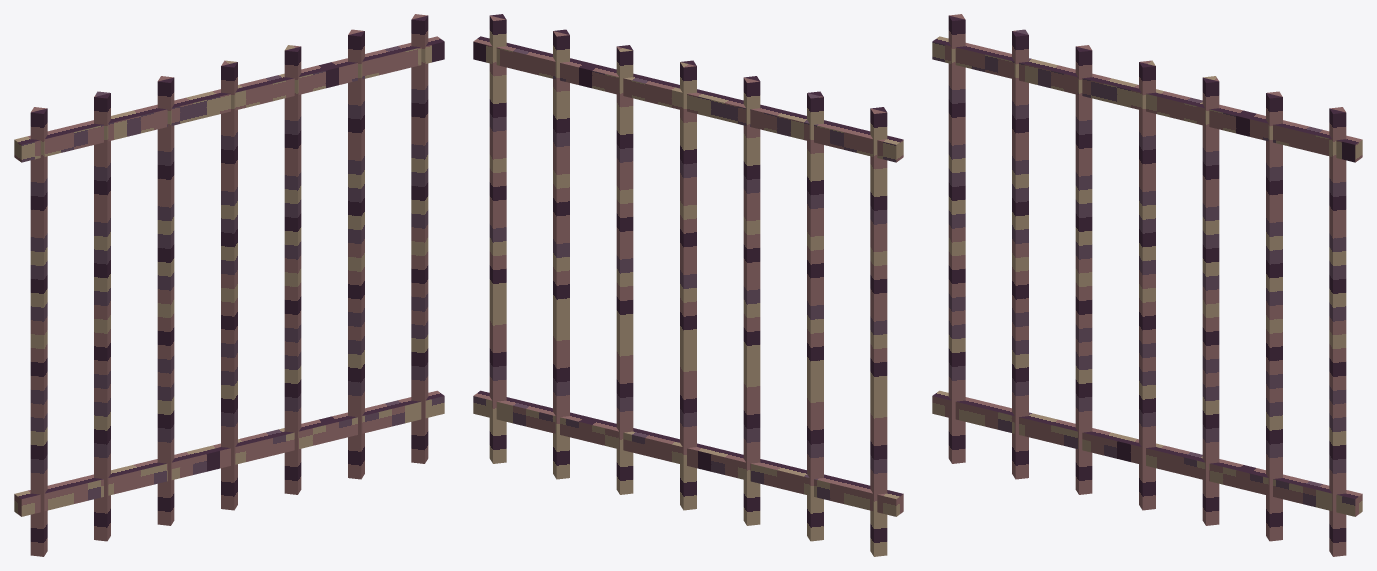
File: a79_suporte_de_armas.glb
3 views of the same model, side by side, from view 1: azimuth 30°, elevation 25°; view 2: azimuth 150°, elevation 25°; view 3: azimuth 330°, elevation 25° (orthographic).
Parts seen in each view (by area): view 1: a79_suporte_de_armas; view 2: a79_suporte_de_armas; view 3: a79_suporte_de_armas.
Boxes of the visible parts, bbox=[...] form: a79_suporte_de_armas: bbox=[14, 14, 444, 556]; a79_suporte_de_armas: bbox=[473, 14, 903, 556]; a79_suporte_de_armas: bbox=[932, 14, 1362, 556].
Size of the model in its own units: 2 by 2 by 0.08.
Materials: 1 (1 with a texture image).
